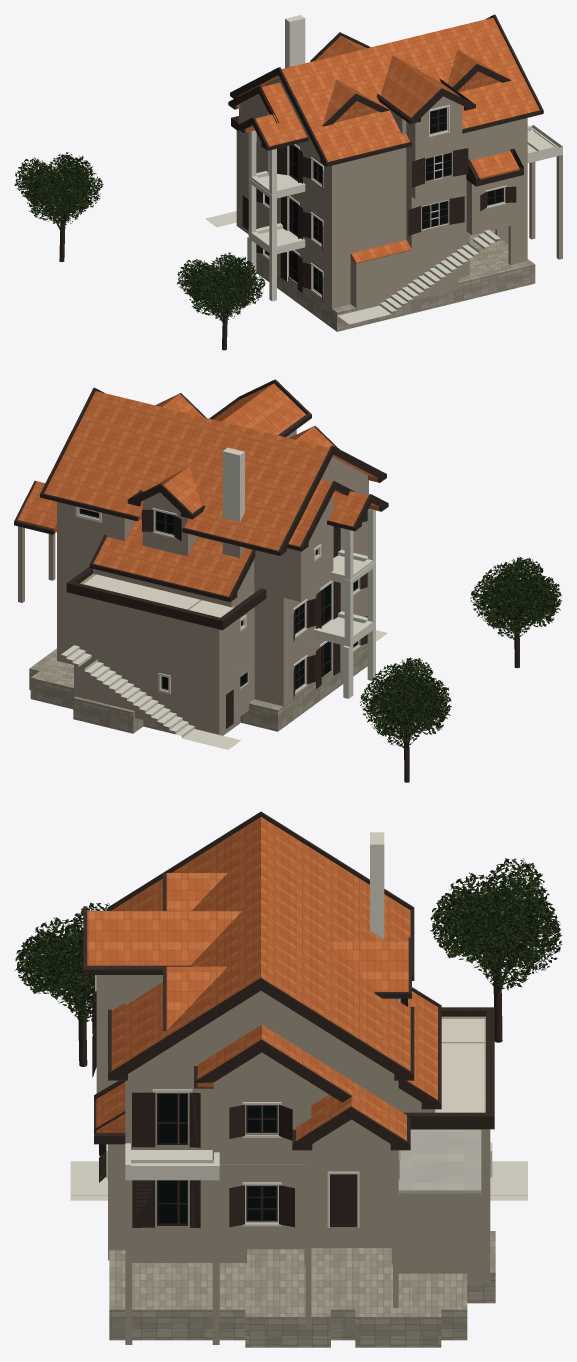
Rendered from context-detail-b31.glb.
The picture shows the model from 3 angles, top to bottom: view 1: azimuth 30°, elevation 25°; view 2: azimuth 150°, elevation 25°; view 3: azimuth 270°, elevation 25°; orthographic projection. The views are drawn at different scales.
Parts seen in each view (by area): view 1: B31 | ÇATII.003, B31 | KAT 1$DUVAR, B31 | KAT 0$DUVAR, B31 | KAT 2$DUVAR, B31 foundation below BK, B31 | ek dalgalar, Individual folded leaves.018, B31 | ÇATI ALIN.002, Individual folded leaves.017, B31 | ek dalgalar.001, B31 | KAT 3$DUVAR, B31 | PENCERE_KAPI$SHUTTER.001 (+12 smaller); view 2: B31 | ÇATII.003, B31 | KAT 1$DUVAR, B31 | KAT 0$DUVAR, B31 | KAT 2$DUVAR, B31 | ÇATII.002, B31 foundation below BK, Individual folded leaves.018, B31 | ek dalgalar, Individual folded leaves.017, B31 | ÇATI ALIN.002, B31 | ÇATI ALIN.001, B31 | ÇATI ALIN (+10 smaller); view 3: B31 | ÇATII.003, B31 foundation below BK, B31 | KAT 1$DUVAR, B31 | KAT 0$DUVAR, B31 | KAT 2$DUVAR, Individual folded leaves.018, B31 | KAT 3$DUVAR, B31 | ÇATI ALIN.002, B31 | ÇATII.002, Individual folded leaves.017, B31 | KAT 1$ZEMİN KAPLAMA, B31 | ÇATI ALIN.001 (+14 smaller).
Part boxes in pixels (box(x1,y1,x2,y2)): B31 | ÇATII.003: box(238, 17, 539, 161); B31 | KAT 1$DUVAR: box(236, 130, 527, 264); B31 | KAT 0$DUVAR: box(236, 155, 562, 311); B31 | KAT 2$DUVAR: box(239, 108, 527, 210); B31 foundation below BK: box(256, 230, 535, 331); B31 | ek dalgalar: box(205, 198, 500, 324); Individual folded leaves.018: box(14, 152, 103, 225); B31 | ÇATI ALIN.002: box(229, 14, 543, 163); Individual folded leaves.017: box(177, 252, 265, 320); B31 | ek dalgalar.001: box(248, 125, 562, 300); B31 | KAT 3$DUVAR: box(240, 77, 462, 148); B31 | PENCERE_KAPI$SHUTTER.001: box(256, 186, 516, 250); B31 | ÇATII.003: box(44, 383, 378, 550); B31 | KAT 1$DUVAR: box(18, 526, 367, 682); B31 | KAT 0$DUVAR: box(57, 596, 367, 735); B31 | KAT 2$DUVAR: box(57, 480, 368, 607); B31 | ÇATII.002: box(17, 475, 379, 596); B31 foundation below BK: box(29, 645, 367, 734); Individual folded leaves.018: box(360, 657, 451, 748); B31 | ek dalgalar: box(61, 567, 387, 749); Individual folded leaves.017: box(470, 556, 562, 639); B31 | ÇATI ALIN.002: box(40, 379, 388, 555); B31 | ÇATI ALIN.001: box(14, 474, 388, 602); B31 | ÇATI ALIN: box(66, 566, 266, 630); B31 | ÇATII.003: box(87, 817, 410, 1095); B31 foundation below BK: box(109, 1231, 495, 1347); B31 | KAT 1$DUVAR: box(108, 1016, 490, 1264); B31 | KAT 0$DUVAR: box(108, 1180, 490, 1344); B31 | KAT 2$DUVAR: box(96, 1014, 435, 1164); Individual folded leaves.018: box(430, 858, 561, 990); B31 | KAT 3$DUVAR: box(96, 975, 398, 1083); B31 | ÇATI ALIN.002: box(83, 811, 414, 1096); B31 | ÇATII.002: box(96, 991, 437, 1140); Individual folded leaves.017: box(14, 902, 109, 1021); B31 | KAT 1$ZEMİN KAPLAMA: box(398, 1129, 481, 1192); B31 | ÇATI ALIN.001: box(94, 908, 441, 1150).
Bounding box in the file's own units: 26.97 × 14.71 × 19.17.
Materials: 12 (12 with a texture image).
